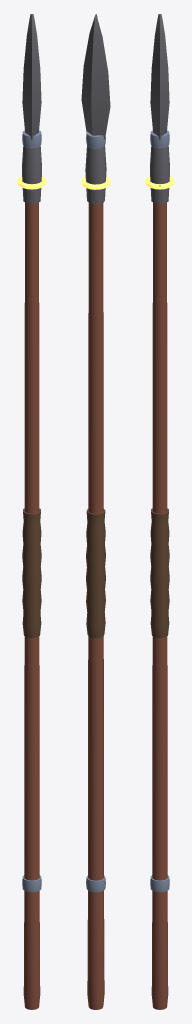
File: depth_furnace_barb.glb
3 views of the same model, side by side, from view 1: azimuth 90°, elevation 25°; view 2: azimuth 150°, elevation 25°; view 3: azimuth 270°, elevation 25° (orthographic).
Parts seen in each view (by area): view 1: depth_furnace_barb; view 2: depth_furnace_barb; view 3: depth_furnace_barb.
Boxes of the visible parts, bbox=[...] form: depth_furnace_barb: bbox=[17, 14, 46, 1009]; depth_furnace_barb: bbox=[81, 14, 110, 1009]; depth_furnace_barb: bbox=[145, 14, 174, 1009].
Bounding box in the file's own units: 0.049 × 1.6 × 0.0432.
